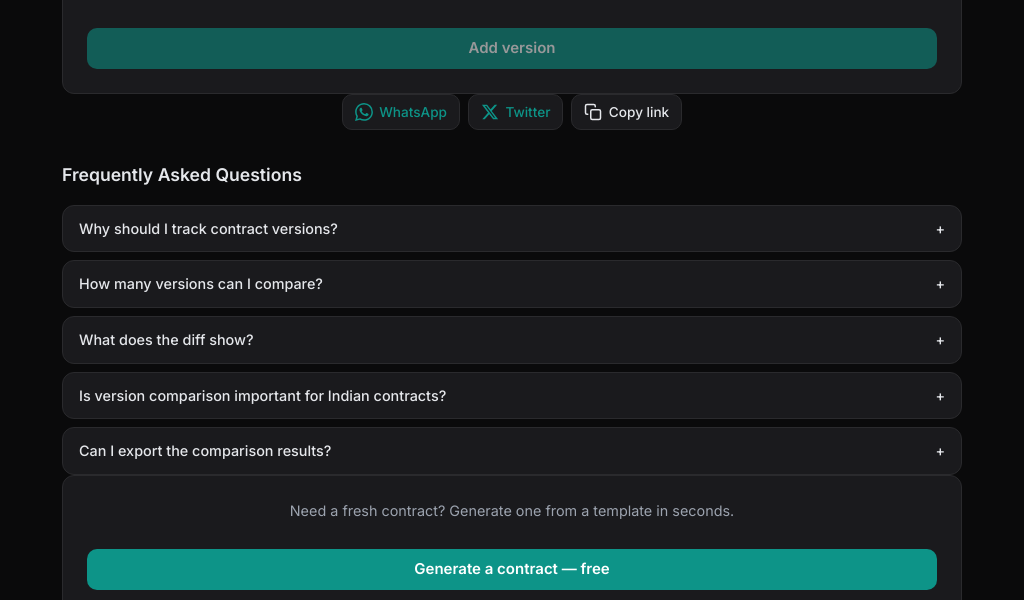
Scenario: VersionHistoryPage › toggles FAQ answers
(page scrolled)
Click the button "Why should I track contract versions? +": point(208, 228) [63,206,961,251]
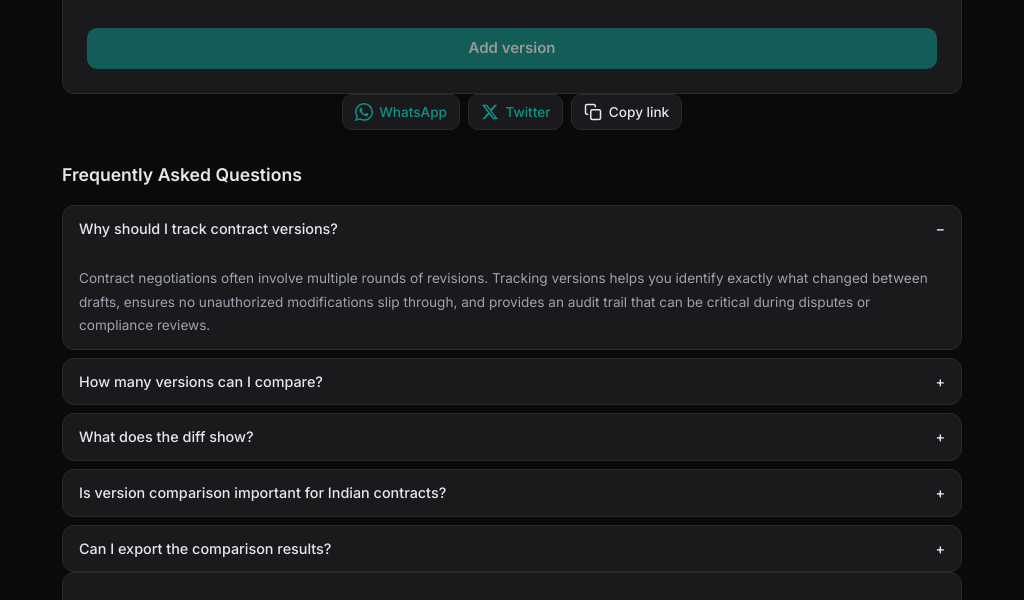
Now the text "audit trail" is shown, box [79,270,928,333]
Click the button "Why should I track contract versions? −": point(208, 228) [63,206,961,251]
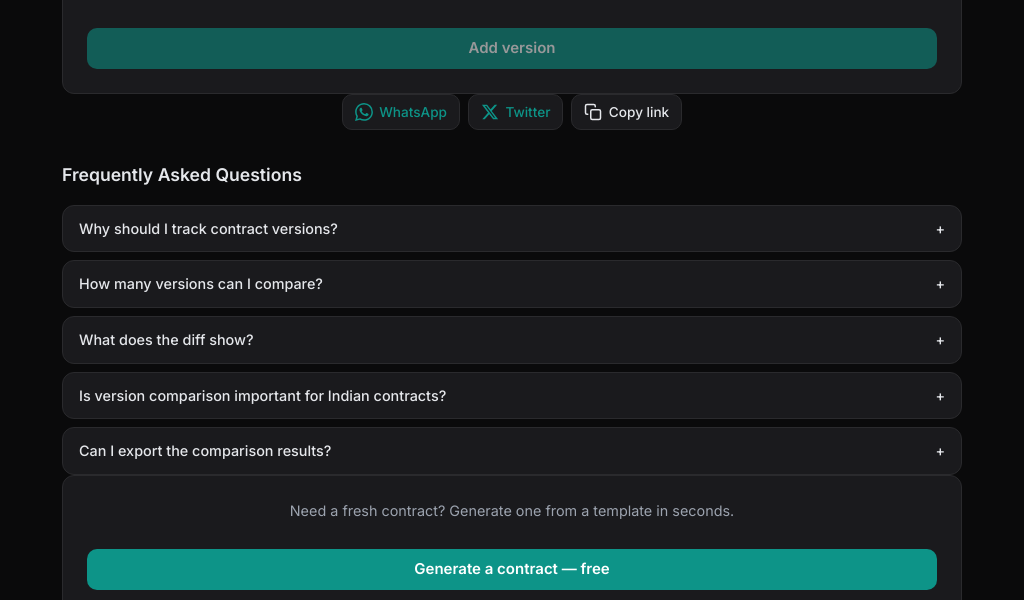
Now the text "audit trail" is gone
